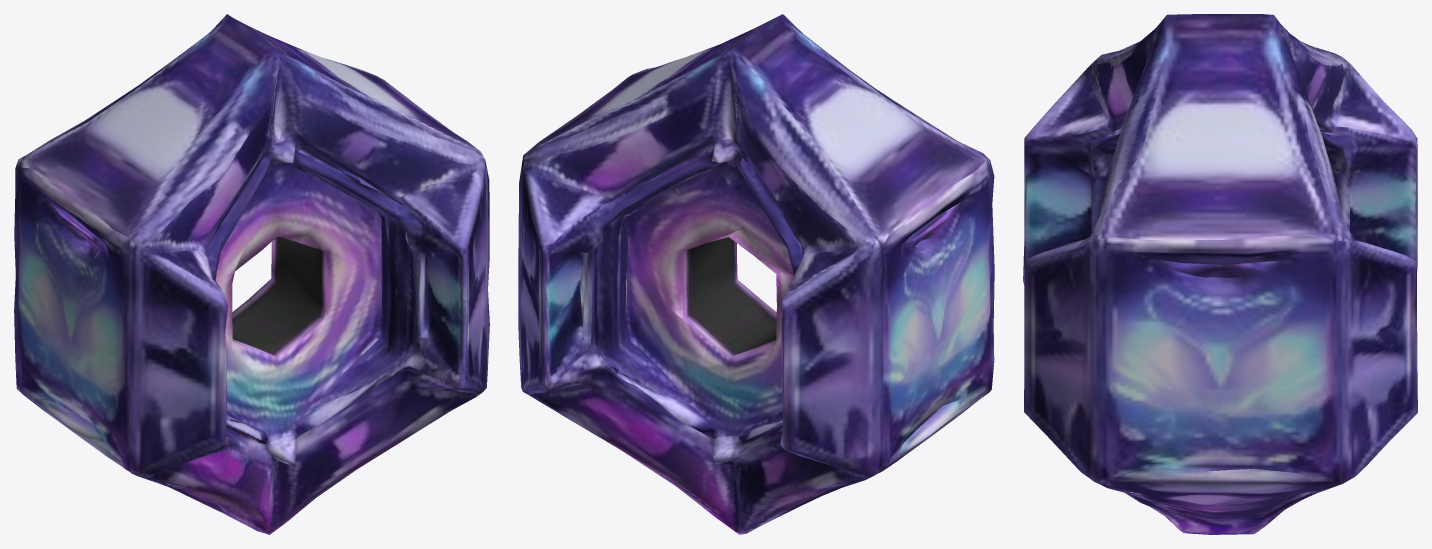
Rendered from fs_aether_rune.glb.
3 views of the same model, side by side, from view 1: azimuth 30°, elevation 25°; view 2: azimuth 150°, elevation 25°; view 3: azimuth 270°, elevation 25° (orthographic). The views are drawn at different scales.
Visible parts, largest first — view 1: geometry_0; view 2: geometry_0; view 3: geometry_0.
Part boxes in pixels (left/top/right/bottom): geometry_0: left=14, top=14, right=489, bottom=534; geometry_0: left=518, top=14, right=994, bottom=534; geometry_0: left=1023, top=14, right=1417, bottom=534.
Bounding box in the file's own units: 0.7756 × 1 × 0.6883.
Materials: 1 (1 with a texture image).
